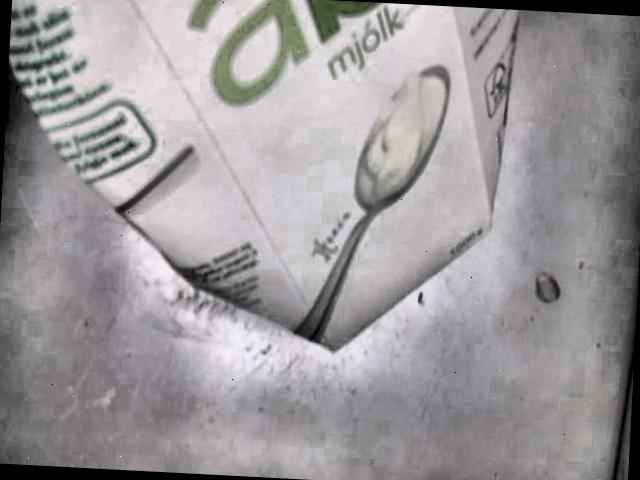Paper: (9, 0, 515, 353)
